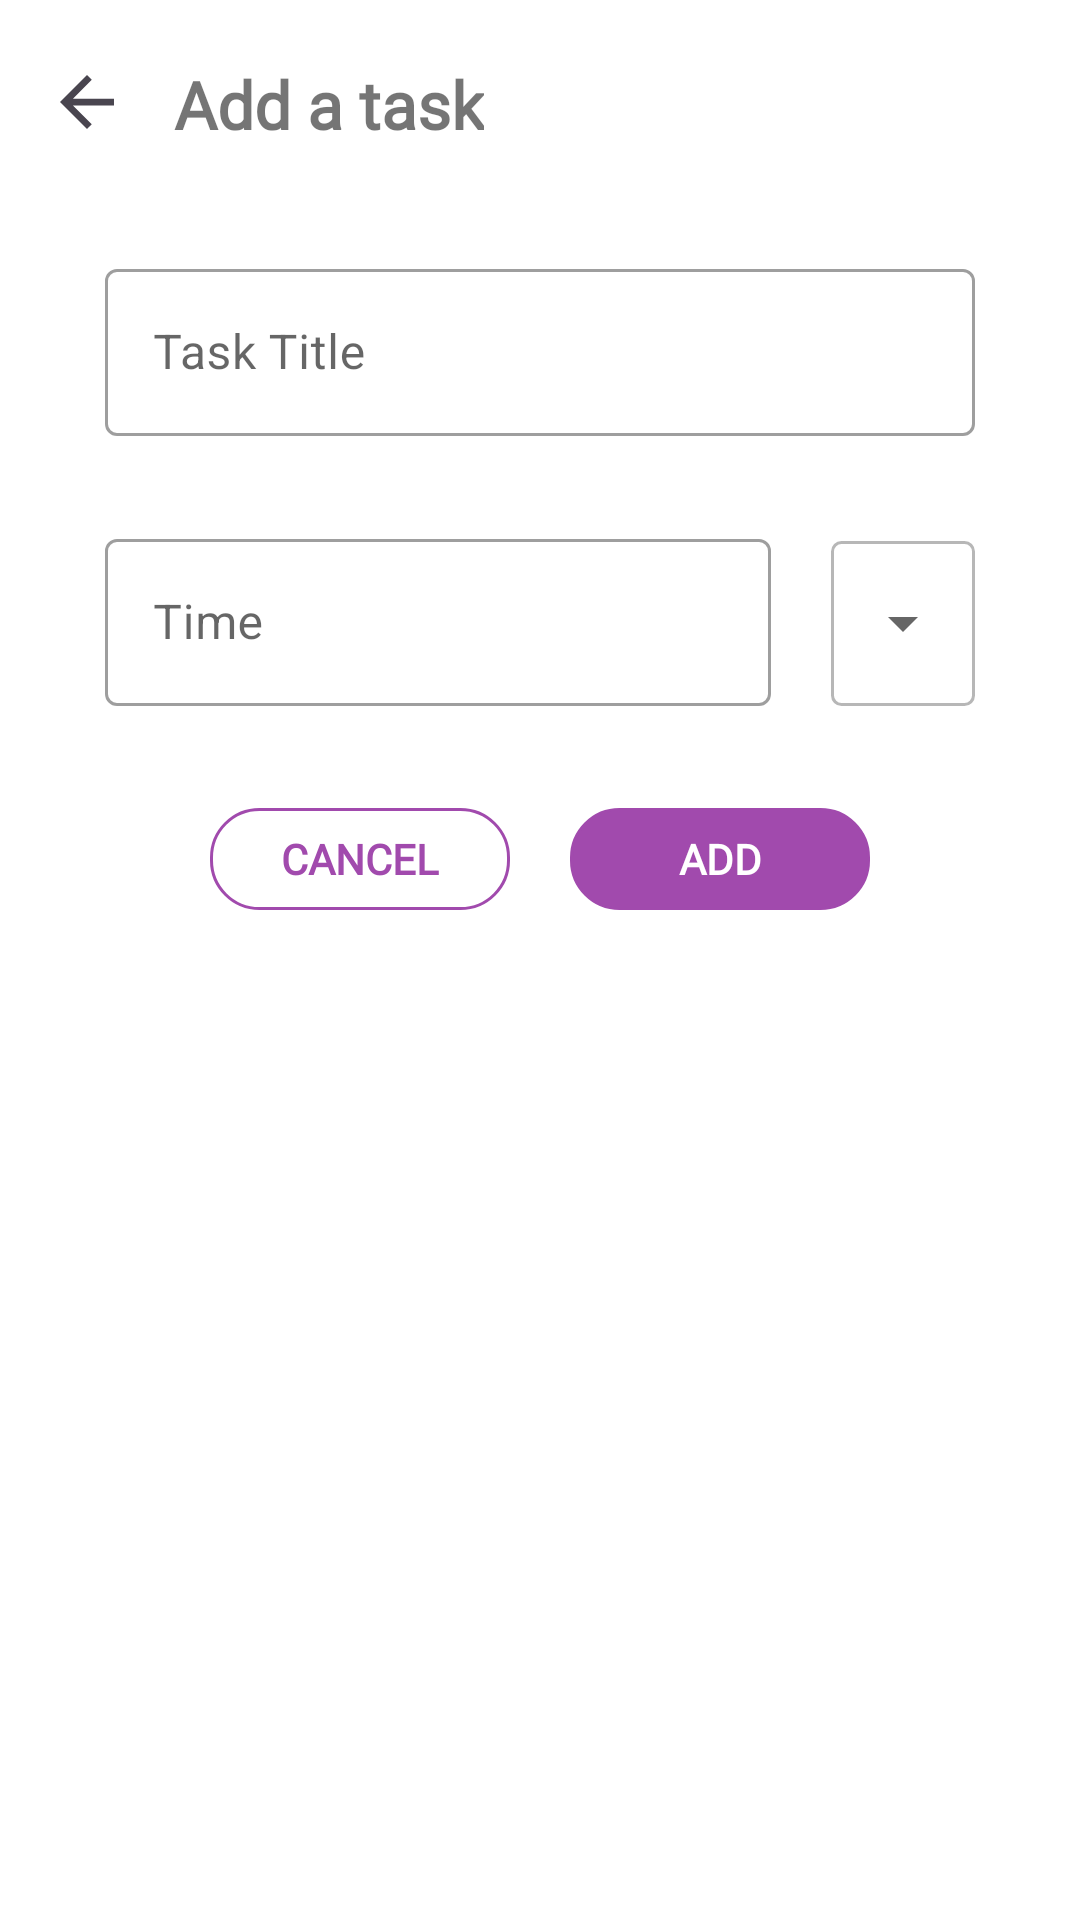

Where icons sit on this 1080 × 1920 app screen, as [x1,y1,x2,y2]:
back: [60,75,114,129]
